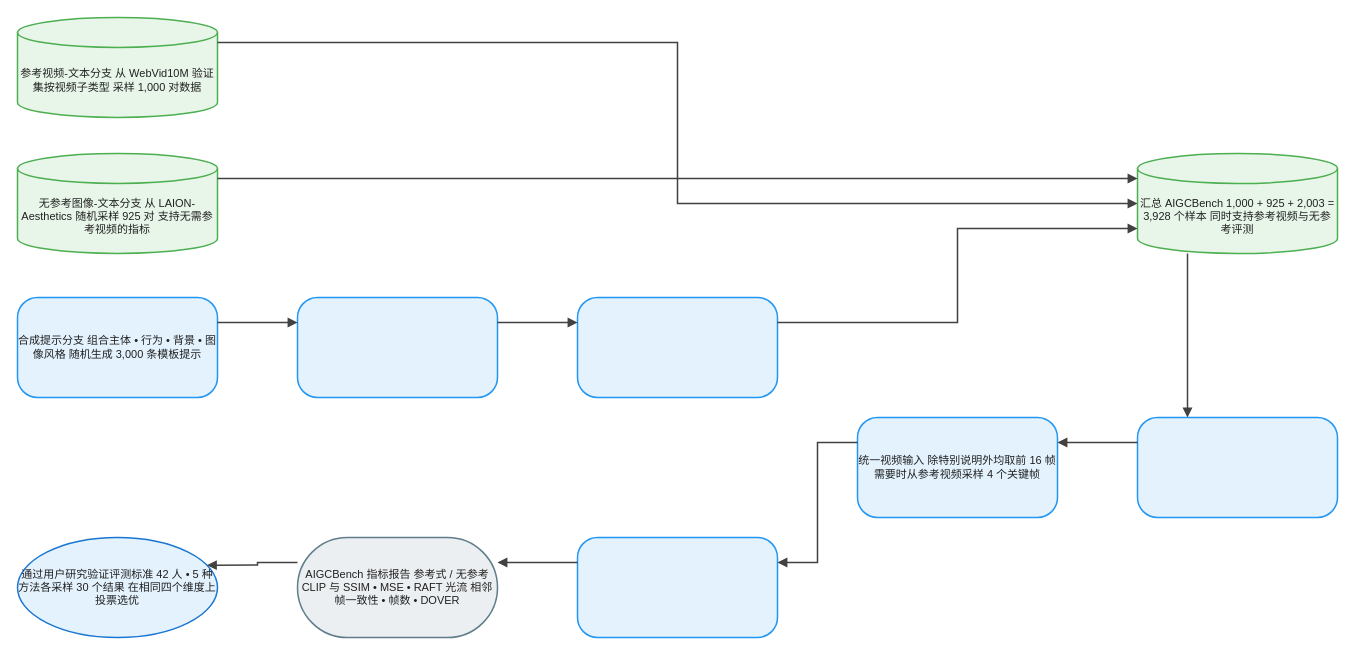
The diagram is 1356 pixels wide and 656 high, and some of its shapes have lost their labels. Here are the shapes that lost their labels. From the top down, the box of each, then its label:
(296, 296, 498, 398): 使用 GPT-4 扩写提示 让内容更加生动、丰富 保留四部分语义组合
(576, 296, 778, 398): 生成并筛选图像 SDXL Base • 1280×720 • 16:9 T2I-CompBench 指标筛出前 2,003 对
(1136, 416, 1338, 518): 运行图生视频模型 输入每个控制图像及对应文本 生成候选视频
(576, 536, 778, 638): 计算 4 个维度的 11 项指标 控制-视频对齐 • 运动效果 时序一致性 • 视频质量
